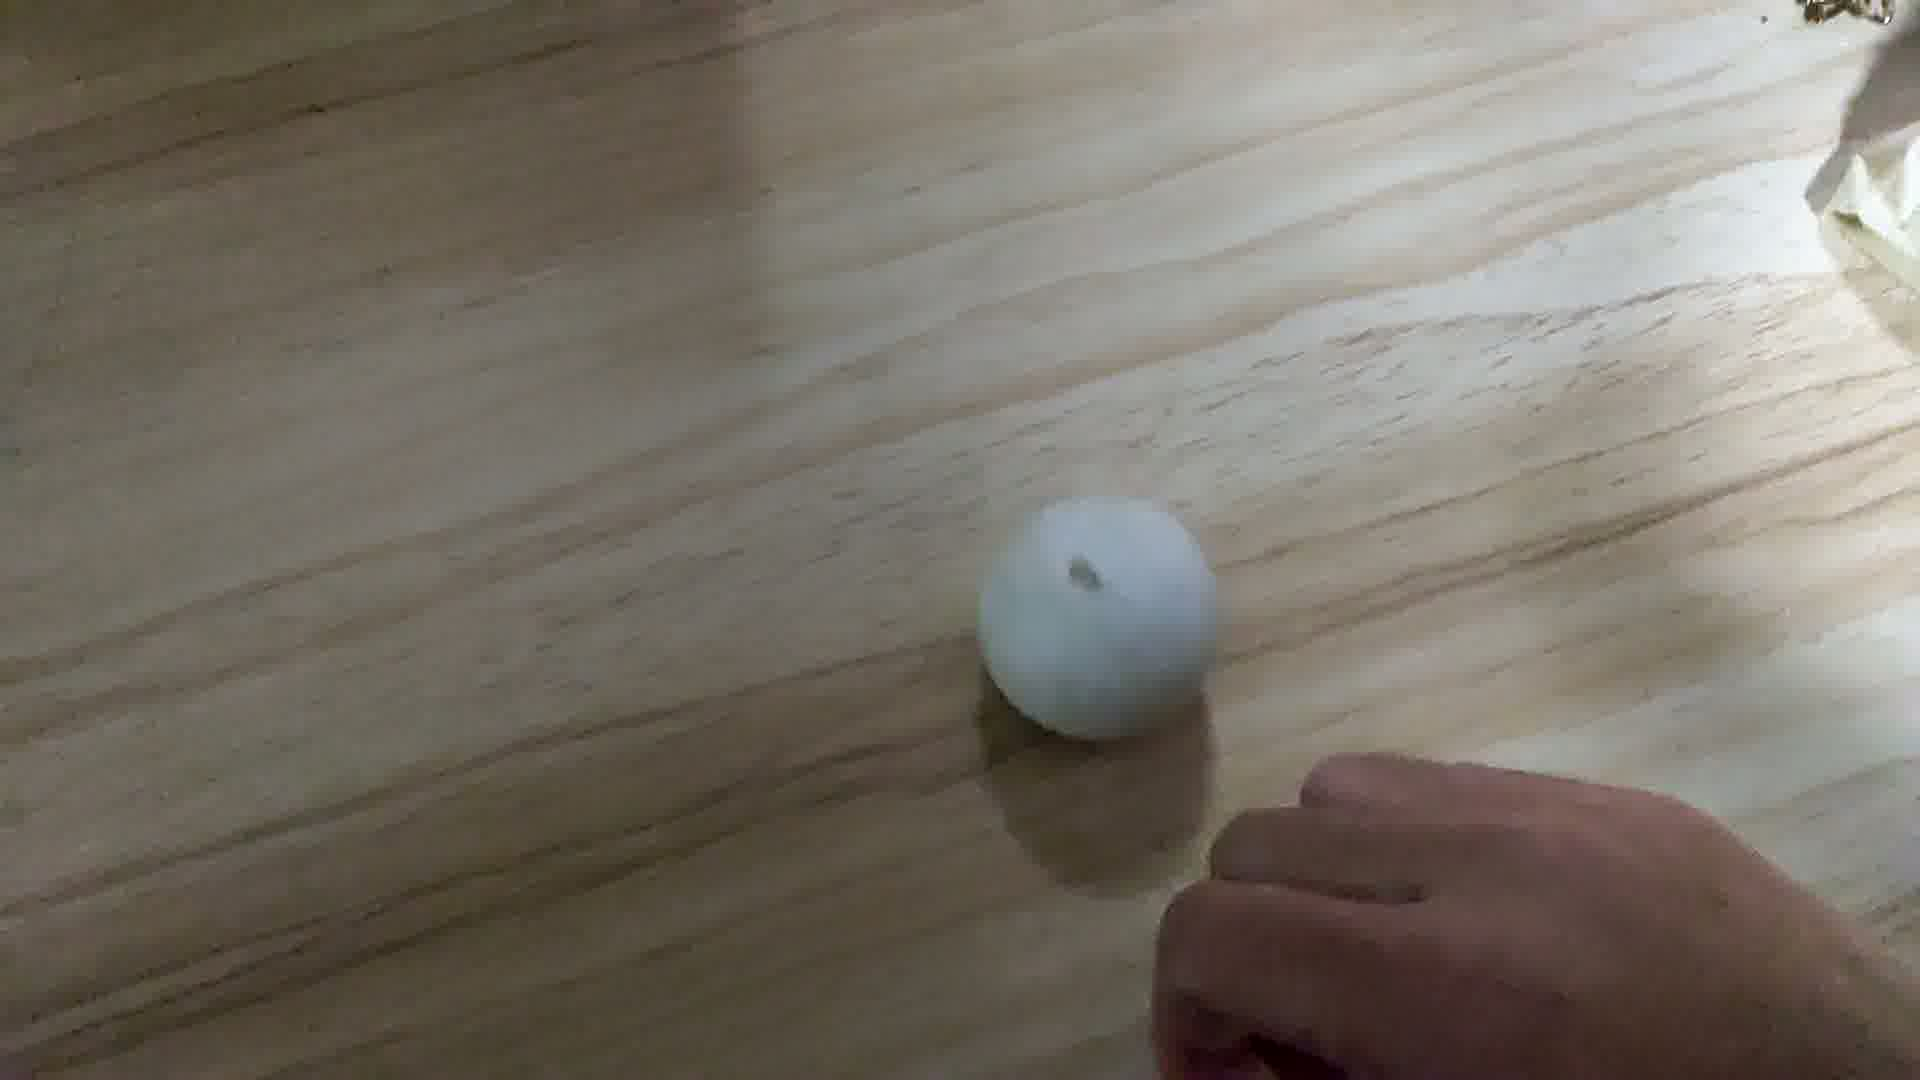Ball: (977, 491, 1222, 737)
